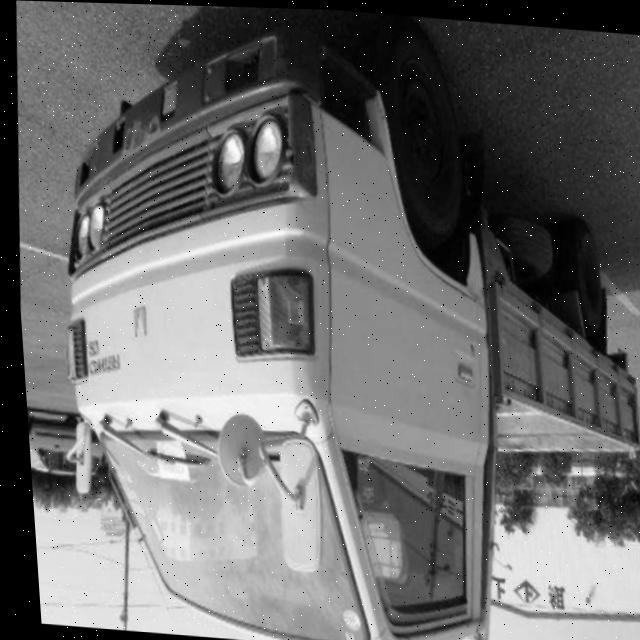truck: (1, 4, 538, 640)
